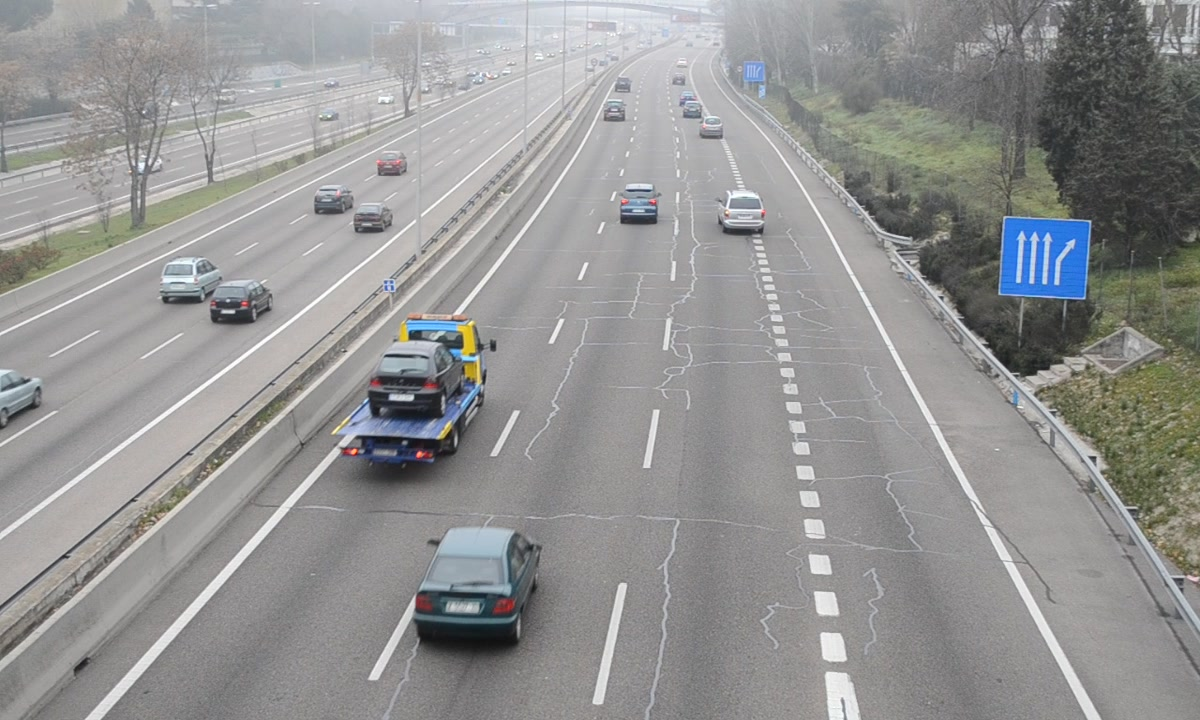car: (415, 529, 540, 636), (722, 190, 766, 234), (619, 183, 657, 221), (700, 115, 723, 140), (604, 99, 626, 124)
small-truck: (329, 314, 487, 458)
